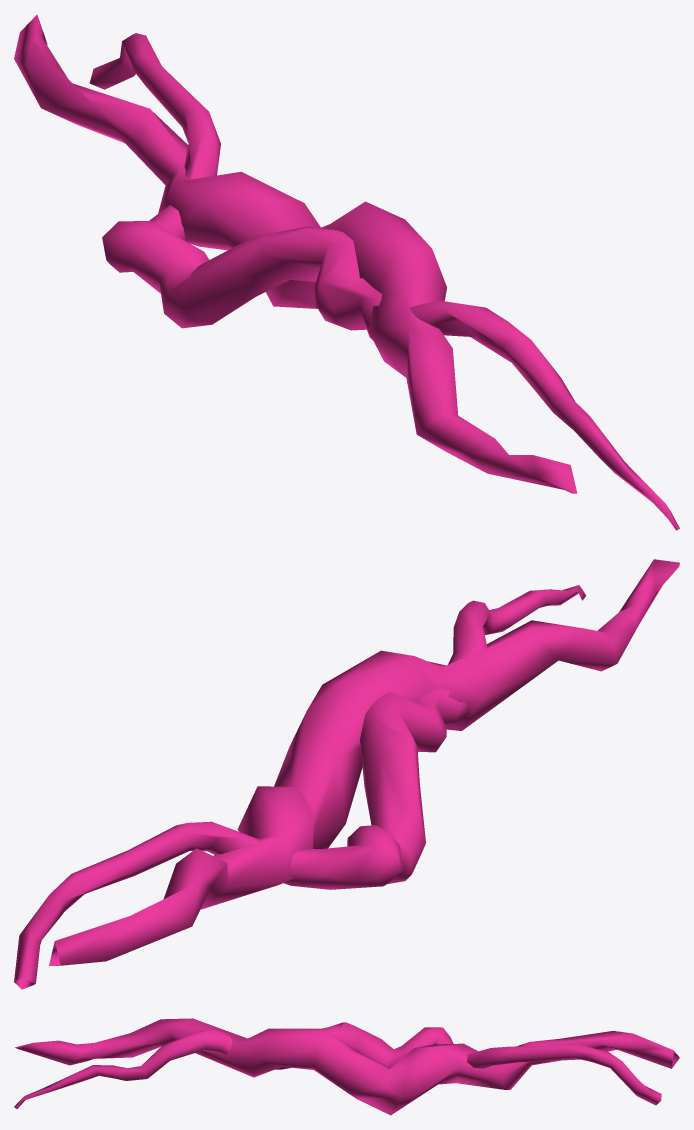
Rendered from Interaction_Root.fbx.
The picture shows the model from 3 angles, top to bottom: view 1: azimuth 30°, elevation 25°; view 2: azimuth 150°, elevation 25°; view 3: azimuth 270°, elevation 25°; orthographic projection. The views are drawn at different scales.
Visible parts, largest first — view 1: Tree.007, Tree.008; view 2: Tree.007, Tree.008; view 3: Tree.007, Tree.008.
Part boxes in pixels (x1,y1,x2,y2): Tree.007: [14, 14, 577, 493]; Tree.008: [89, 33, 679, 530]; Tree.007: [49, 559, 679, 965]; Tree.008: [14, 585, 586, 989]; Tree.007: [15, 1018, 679, 1115]; Tree.008: [14, 1022, 661, 1108].
Bounding box in the file's own units: 99.72 × 65.4 × 477.
